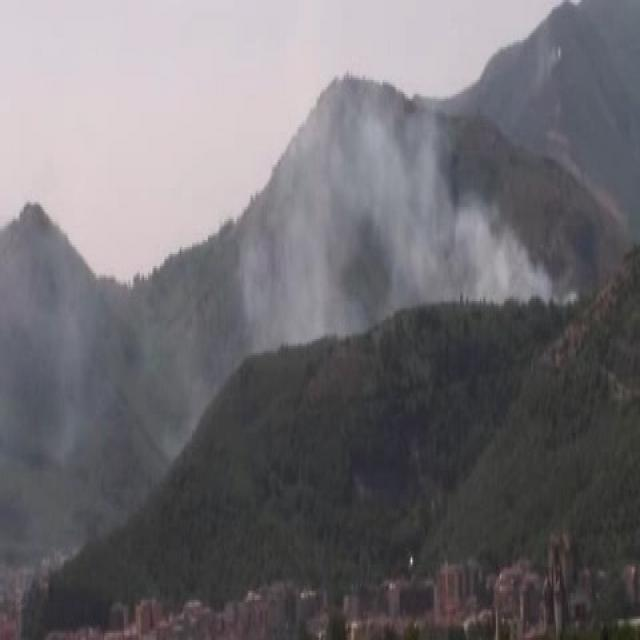smoke: (327, 94, 503, 321)
